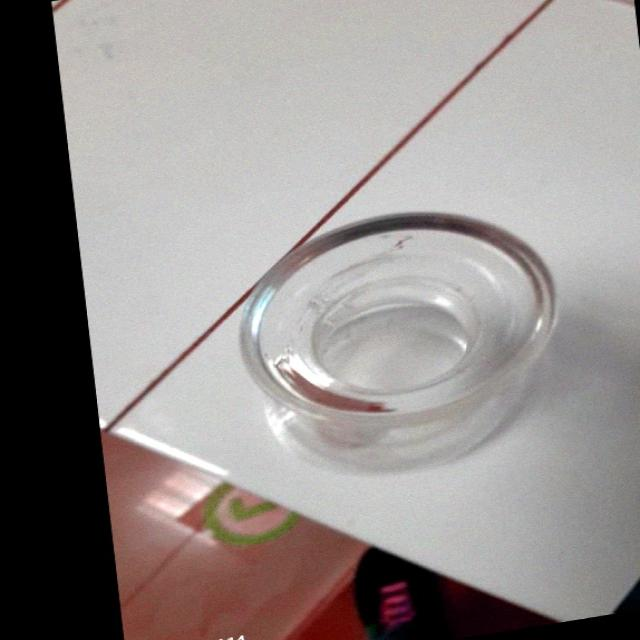Filtration Flask: (232, 164, 613, 468)
